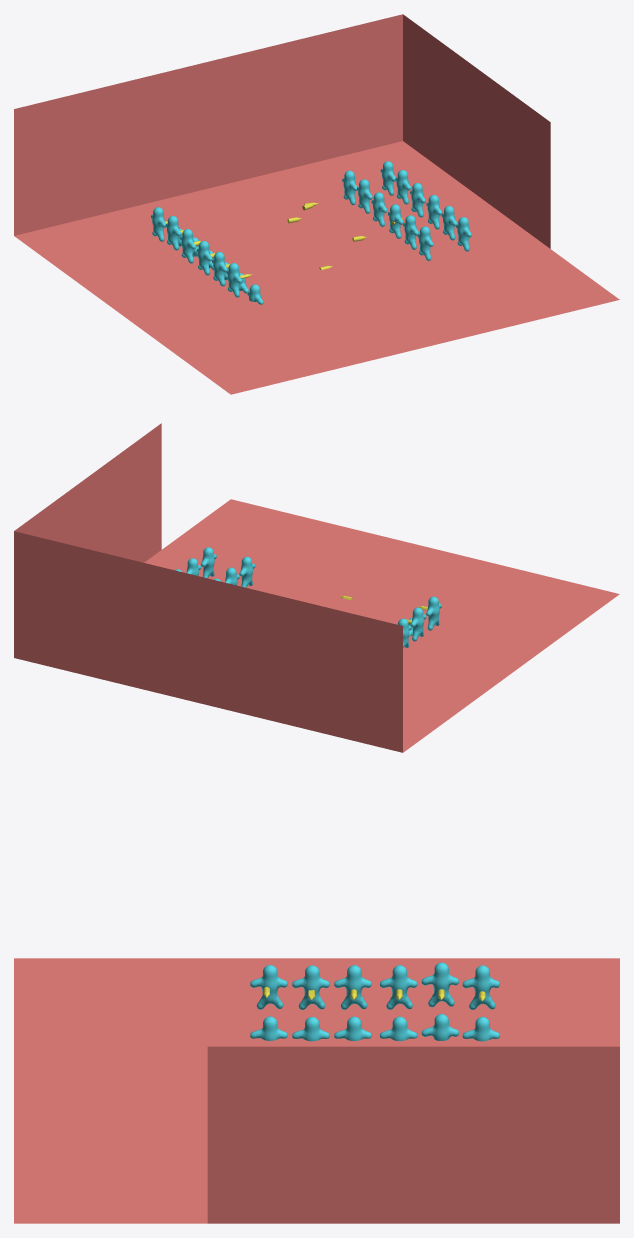
Rendered from bulani.glb.
The picture shows the model from 3 angles, top to bottom: view 1: azimuth 30°, elevation 25°; view 2: azimuth 150°, elevation 25°; view 3: azimuth 270°, elevation 25°; orthographic projection. The views are drawn at different scales.
Visible parts, largest first — view 1: Plane; view 2: Plane; view 3: Plane, Mball.014, Mball.018, Mball.015, Mball.016, Mball.019, Mball.017.
Part boxes in pixels (bbox=[...]): Plane: bbox=[14, 14, 619, 394]; Plane: bbox=[14, 423, 619, 752]; Plane: bbox=[14, 958, 619, 1223]; Mball.014: bbox=[421, 962, 458, 1007]; Mball.018: bbox=[292, 965, 329, 1009]; Mball.015: bbox=[462, 965, 499, 1009]; Mball.016: bbox=[334, 965, 371, 1009]; Mball.019: bbox=[250, 965, 287, 1009]; Mball.017: bbox=[380, 965, 417, 1009].
Size of the model in its own units: 98.53 by 34.73 by 95.16.
